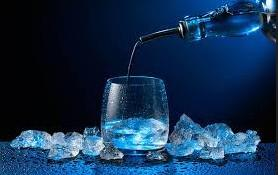bottle: (172, 11, 269, 41)
